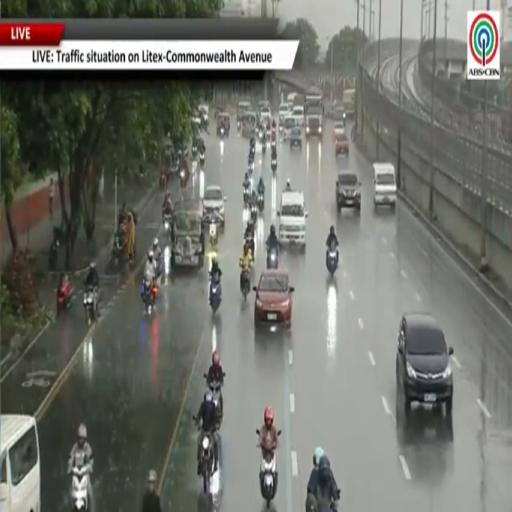bus: (0, 414, 40, 511)
car: (396, 313, 453, 413), (254, 268, 294, 328), (336, 171, 360, 212), (203, 186, 226, 227), (280, 116, 297, 140), (288, 126, 302, 149), (334, 134, 348, 156), (291, 105, 304, 126), (279, 103, 290, 122), (333, 105, 345, 122), (259, 106, 271, 122), (333, 122, 345, 137)
jeepney: (171, 200, 204, 269)
motorcycle: (260, 447, 276, 508), (200, 432, 214, 493), (71, 464, 89, 511), (204, 374, 223, 417), (57, 282, 74, 314), (112, 229, 126, 267), (84, 287, 97, 326), (143, 279, 157, 315), (306, 495, 337, 511), (48, 237, 59, 271), (210, 279, 221, 313), (327, 245, 338, 276), (240, 269, 250, 300), (162, 246, 170, 280), (209, 219, 217, 252), (267, 247, 278, 268), (163, 214, 172, 239), (245, 236, 254, 258), (243, 187, 251, 205), (251, 203, 258, 223), (180, 169, 187, 188), (159, 172, 166, 189), (258, 194, 264, 212), (271, 157, 277, 172), (248, 162, 254, 175), (200, 152, 205, 166), (249, 146, 255, 157), (192, 146, 197, 159), (262, 139, 266, 154), (258, 130, 263, 142), (271, 139, 276, 150), (220, 127, 224, 138), (237, 120, 241, 130), (279, 125, 282, 134)
truck: (304, 94, 323, 136), (343, 89, 355, 119)
